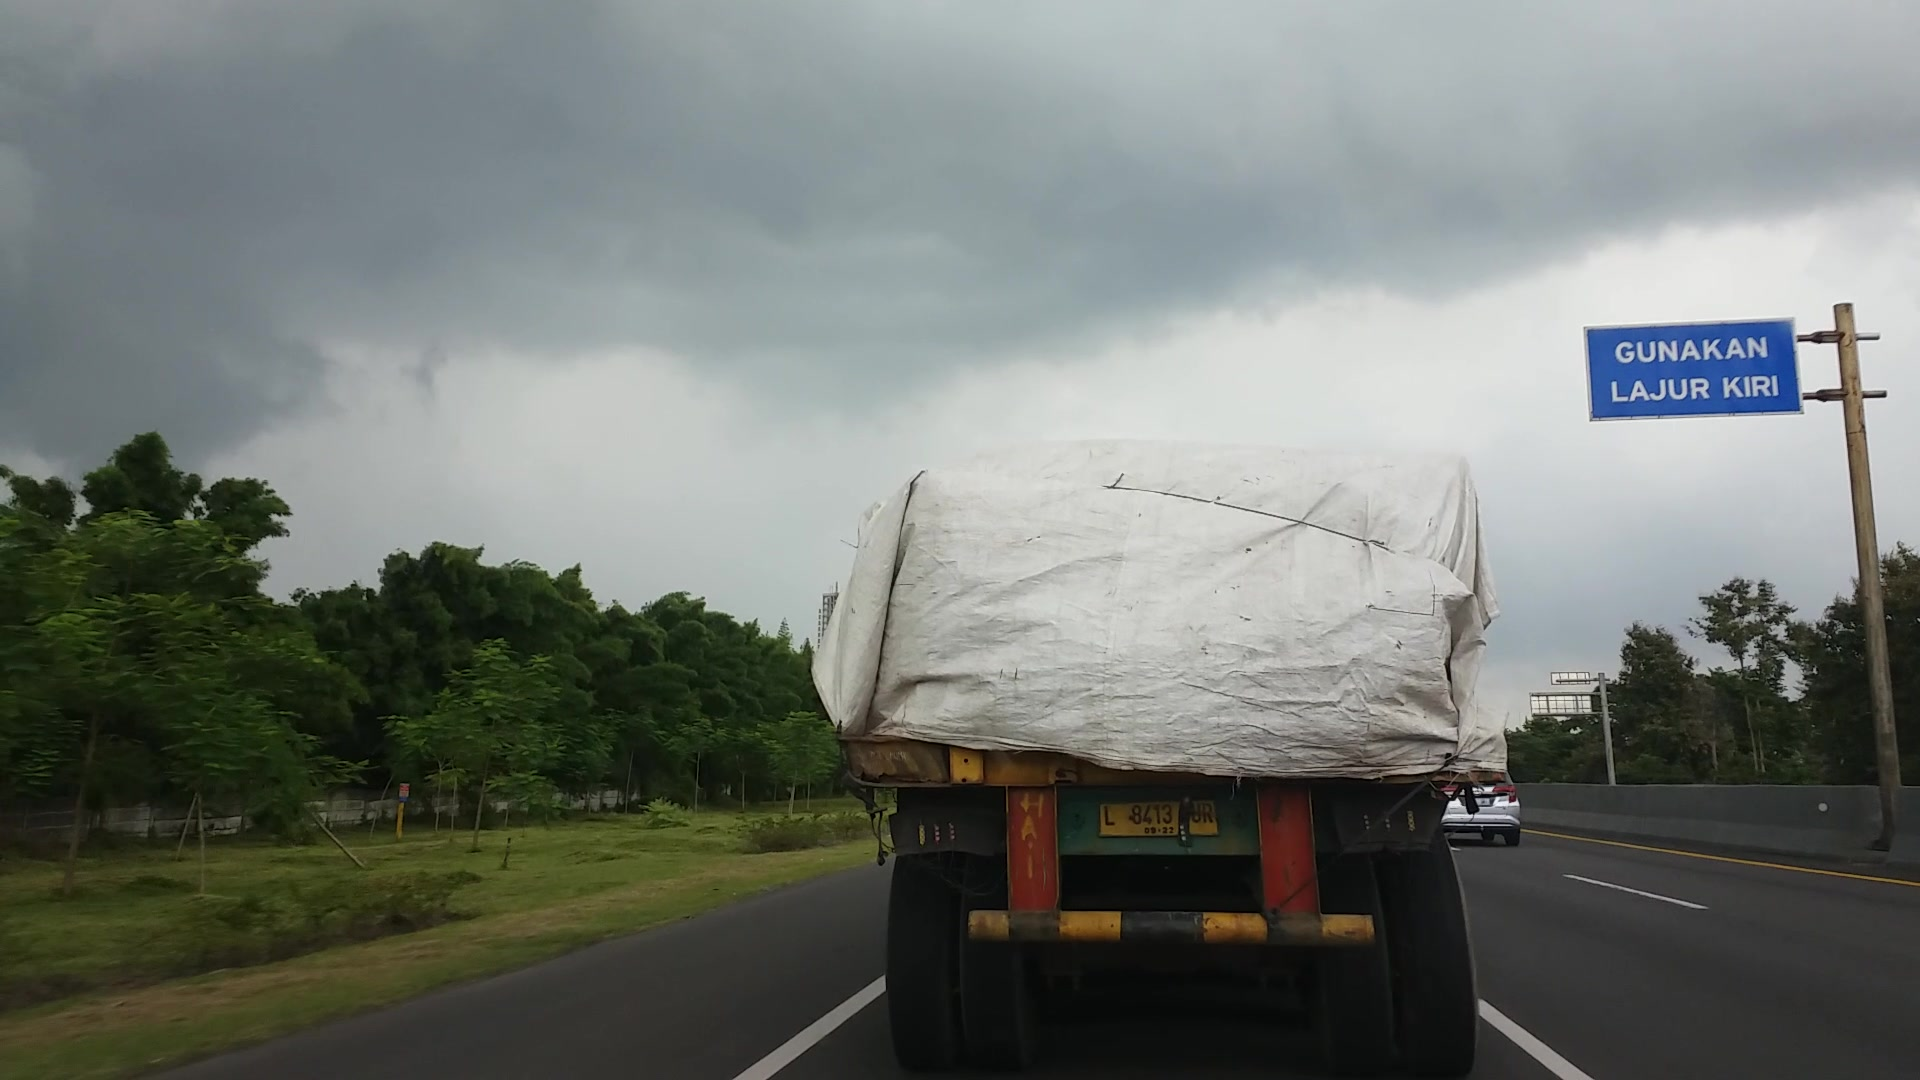plate_positive: (1098, 800, 1217, 836)
